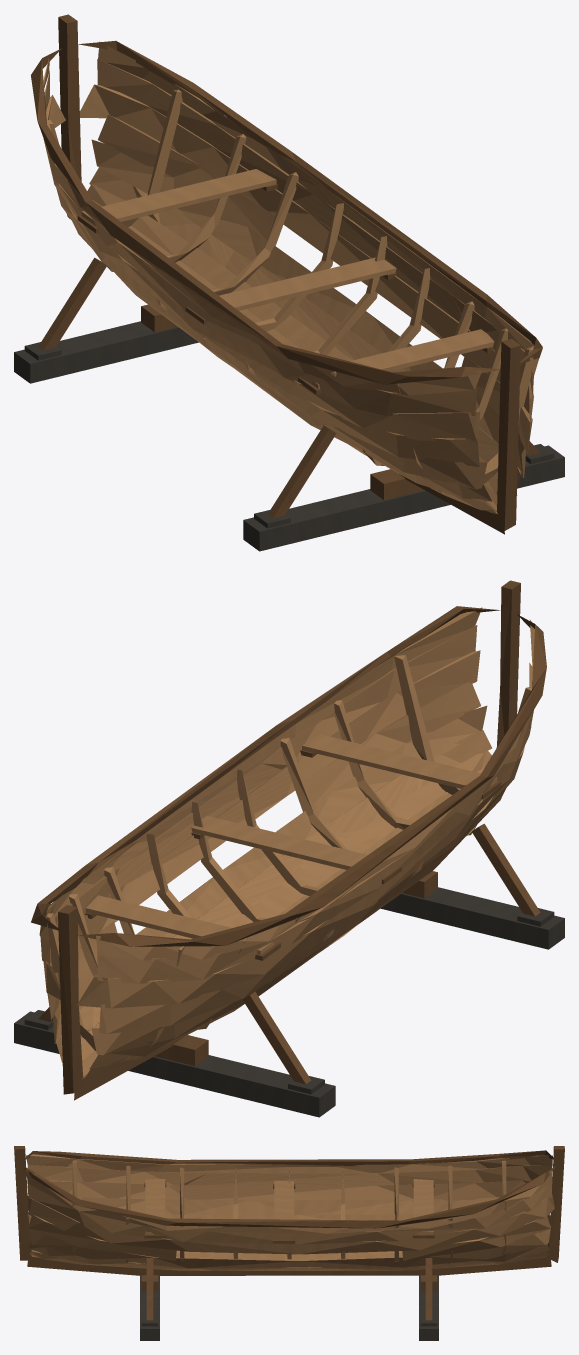
File: ship_lod2.glb
3 views of the same model, one above another, from view 1: azimuth 30°, elevation 25°; view 2: azimuth 150°, elevation 25°; view 3: azimuth 270°, elevation 25° (orthographic). The views are drawn at different scales.
Parts seen in each view (by area): view 1: lod2_hull_strake_05_starboard_0, lod2_hull_strake_06_starboard_0, lod2_hull_strake_03_starboard_0, lod2_trim_gunwale_port, lod2_hull_strake_05_port_0, lod2_hull_strake_06_port_0, lod2_trestle_1_foot, lod2_hull_strake_07_starboard_0, lod2_trim_gunwale_starboard, lod2_hull_strake_02_starboard_0, lod2_hull_strake_04_port_0, lod2_trestle_0_foot (+24 smaller); view 2: lod2_hull_strake_05_starboard_0, lod2_hull_strake_06_starboard_0, lod2_trim_gunwale_port, lod2_hull_strake_05_port_0, lod2_hull_strake_03_starboard_0, lod2_hull_strake_06_port_0, lod2_trestle_0_foot, lod2_hull_strake_07_starboard_0, lod2_hull_strake_02_starboard_0, lod2_hull_strake_04_port_0, lod2_trim_gunwale_starboard, lod2_trestle_1_foot (+24 smaller); view 3: lod2_hull_strake_06_port_0, lod2_hull_strake_05_starboard_0, lod2_hull_strake_06_starboard_0, lod2_hull_strake_05_port_0, lod2_hull_strake_03_starboard_0, lod2_hull_strake_07_port_0, lod2_hull_strake_04_port_0, lod2_trim_gunwale_starboard, lod2_spine_keel, lod2_trim_gunwale_port, lod2_hull_strake_07_starboard_0, lod2_hull_strake_02_starboard_0 (+18 smaller).
Boxes of the visible parts, bbox=[...] form: lod2_hull_strake_05_starboard_0: bbox=[80, 84, 533, 428]; lod2_hull_strake_06_starboard_0: bbox=[97, 59, 533, 396]; lod2_hull_strake_03_starboard_0: bbox=[91, 139, 525, 477]; lod2_trim_gunwale_port: bbox=[31, 48, 500, 384]; lod2_hull_strake_05_port_0: bbox=[43, 95, 480, 441]; lod2_hull_strake_06_port_0: bbox=[44, 71, 477, 415]; lod2_trestle_1_foot: bbox=[243, 445, 564, 551]; lod2_hull_strake_07_starboard_0: bbox=[98, 41, 539, 375]; lod2_trim_gunwale_starboard: bbox=[78, 40, 542, 364]; lod2_hull_strake_02_starboard_0: bbox=[89, 166, 520, 488]; lod2_hull_strake_04_port_0: bbox=[56, 188, 479, 466]; lod2_trestle_0_foot: bbox=[14, 321, 198, 383]; lod2_hull_strake_05_starboard_0: bbox=[43, 650, 480, 999]; lod2_hull_strake_06_starboard_0: bbox=[40, 625, 477, 968]; lod2_trim_gunwale_port: bbox=[78, 614, 546, 946]; lod2_hull_strake_05_port_0: bbox=[77, 662, 532, 1008]; lod2_hull_strake_03_starboard_0: bbox=[53, 705, 487, 1043]; lod2_hull_strake_06_port_0: bbox=[97, 669, 533, 983]; lod2_trestle_0_foot: bbox=[14, 1011, 335, 1117]; lod2_hull_strake_07_starboard_0: bbox=[39, 607, 482, 942]; lod2_hull_strake_02_starboard_0: bbox=[56, 730, 492, 1062]; lod2_hull_strake_04_port_0: bbox=[99, 745, 524, 1033]; lod2_trim_gunwale_starboard: bbox=[31, 606, 500, 930]; lod2_trestle_1_foot: bbox=[381, 887, 564, 949]; lod2_hull_strake_06_port_0: bbox=[27, 1165, 552, 1186]; lod2_hull_strake_05_starboard_0: bbox=[27, 1194, 554, 1254]; lod2_hull_strake_06_starboard_0: bbox=[27, 1182, 552, 1244]; lod2_hull_strake_05_port_0: bbox=[27, 1180, 530, 1201]; lod2_hull_strake_03_starboard_0: bbox=[28, 1226, 550, 1268]; lod2_hull_strake_07_port_0: bbox=[26, 1154, 552, 1173]; lod2_hull_strake_04_port_0: bbox=[77, 1197, 549, 1214]; lod2_trim_gunwale_starboard: bbox=[23, 1166, 555, 1228]; lod2_spine_keel: bbox=[27, 1256, 551, 1275]; lod2_trim_gunwale_port: bbox=[25, 1150, 553, 1166]; lod2_hull_strake_07_starboard_0: bbox=[26, 1170, 552, 1233]; lod2_hull_strake_02_starboard_0: bbox=[28, 1243, 549, 1270].
Size of the model in its own units: 2.6 by 1.98 by 6.67.
6 materials, 6 textured.
